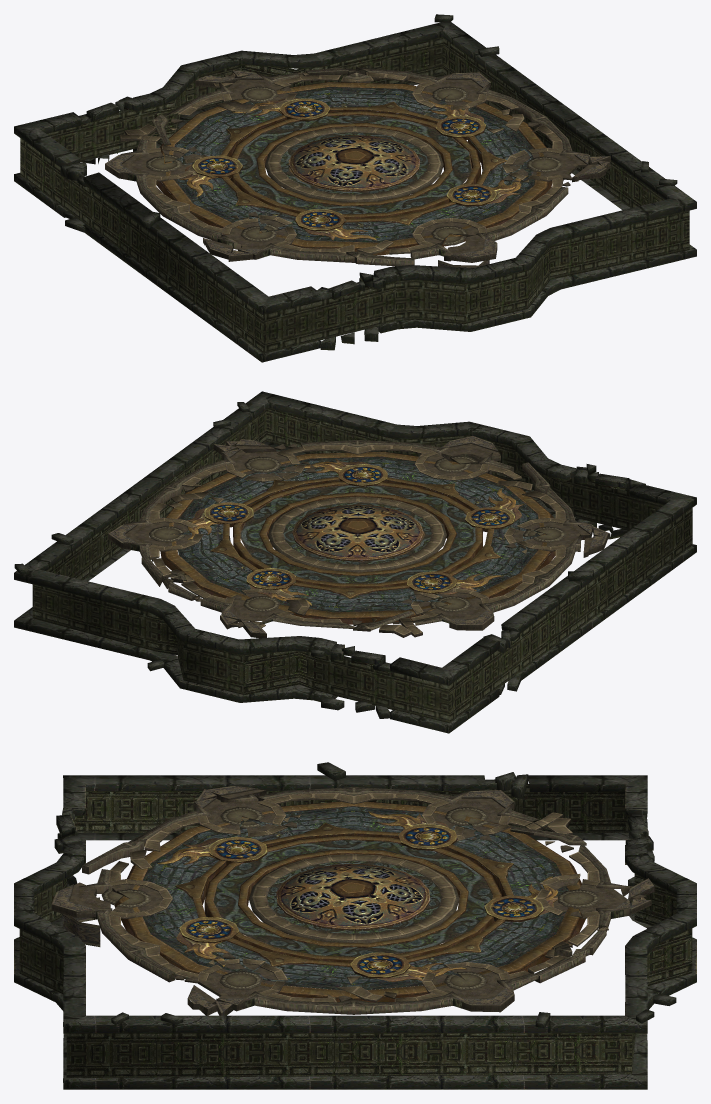
Rendered from pingtai.FBX.
3 views of the same model, one above another, from view 1: azimuth 30°, elevation 25°; view 2: azimuth 150°, elevation 25°; view 3: azimuth 270°, elevation 25° (orthographic). The views are drawn at different scales.
Parts seen in each view (by area): view 1: pingtai; view 2: pingtai; view 3: pingtai.
Boxes of the visible parts, left/top/right/bottom form: pingtai: left=14, top=14, right=696, bottom=362; pingtai: left=14, top=391, right=696, bottom=733; pingtai: left=14, top=762, right=696, bottom=1089.
Bounding box in the file's own units: 2771 × 396 × 3092.
